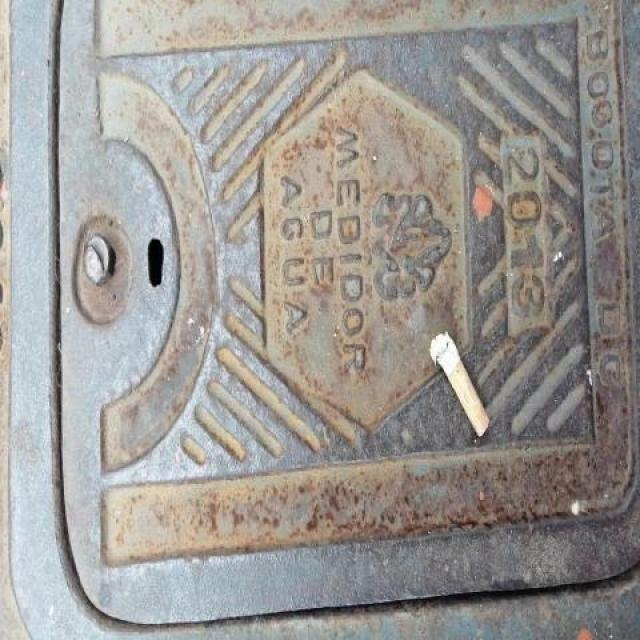non-organic waste: (424, 326, 493, 442)
